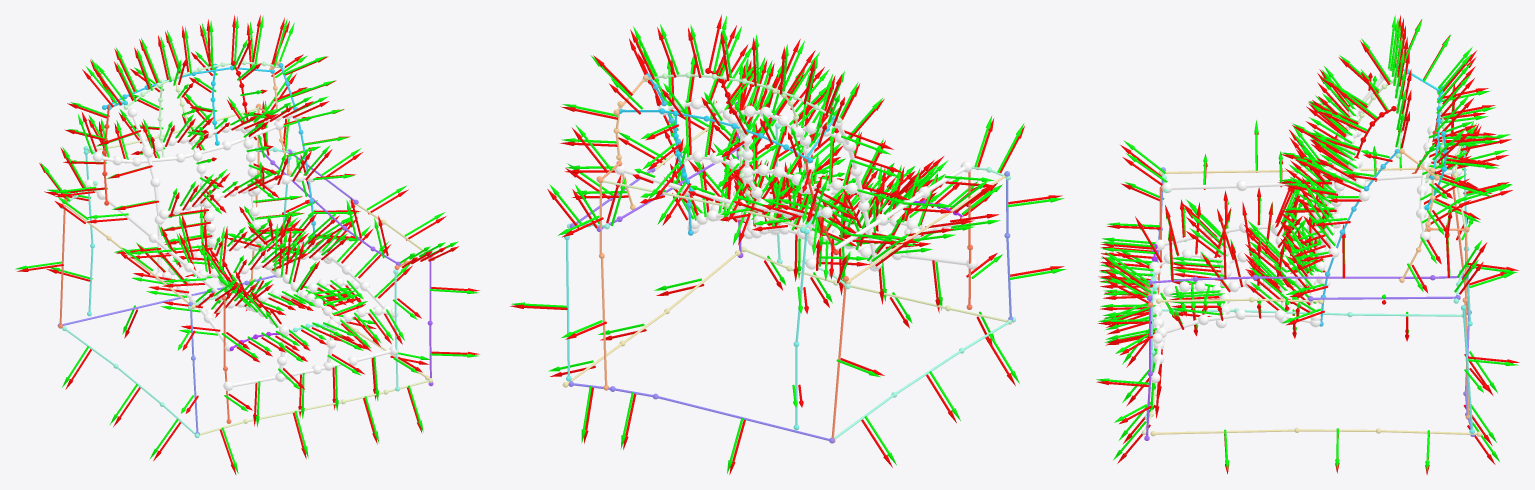
File: author2_sofa.gltf
The picture shows the model from 3 angles, left to right: view 1: azimuth 30°, elevation 25°; view 2: azimuth 150°, elevation 25°; view 3: azimuth 270°, elevation 25°; orthographic projection. The views are drawn at different scales.
Size of the model in its own units: 0.7202 by 0.7545 by 0.7753.
